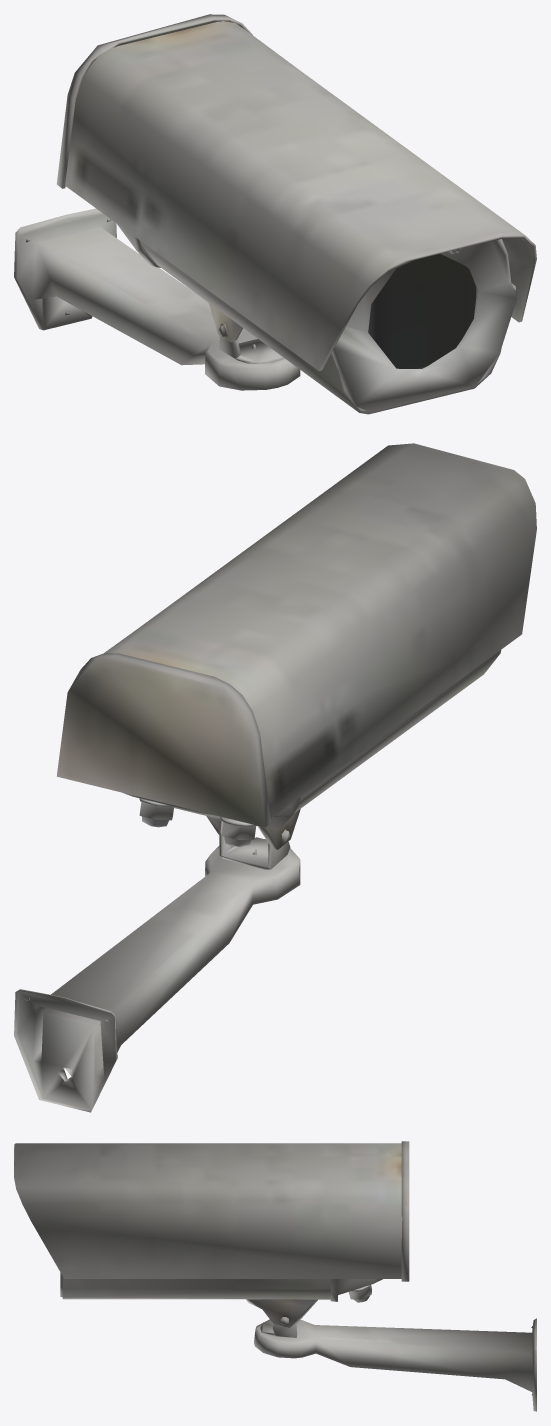
File: camera.glb
The picture shows the model from 3 angles, top to bottom: view 1: azimuth 30°, elevation 25°; view 2: azimuth 150°, elevation 25°; view 3: azimuth 270°, elevation 25°; orthographic projection. The views are drawn at different scales.
Visible parts, largest first — view 1: security_camera_01; view 2: security_camera_01; view 3: security_camera_01.
Part boxes in pixels (bbox=[...]): security_camera_01: bbox=[14, 14, 536, 414]; security_camera_01: bbox=[14, 443, 536, 1112]; security_camera_01: bbox=[14, 1141, 536, 1411].
Size of the model in its own units: 0.1696 by 0.2848 by 0.5536.
2 materials, 2 textured.
